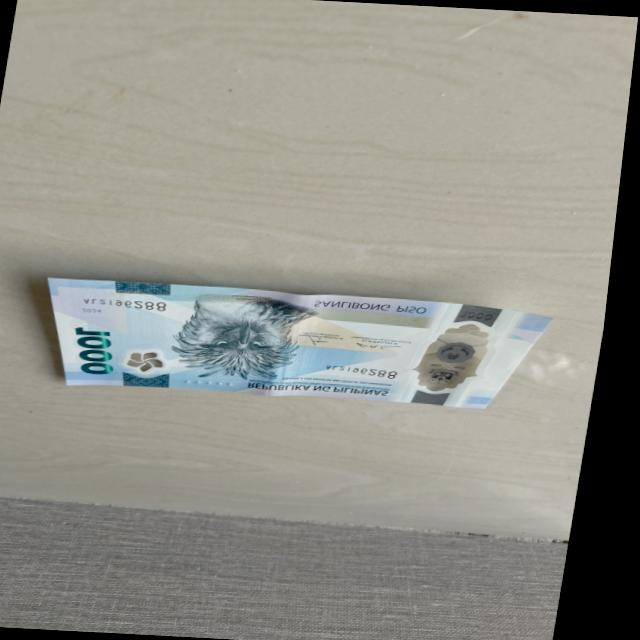clear_window: (410, 317, 512, 400)
eagle: (178, 290, 306, 380)
sampaguita: (131, 350, 170, 374)
